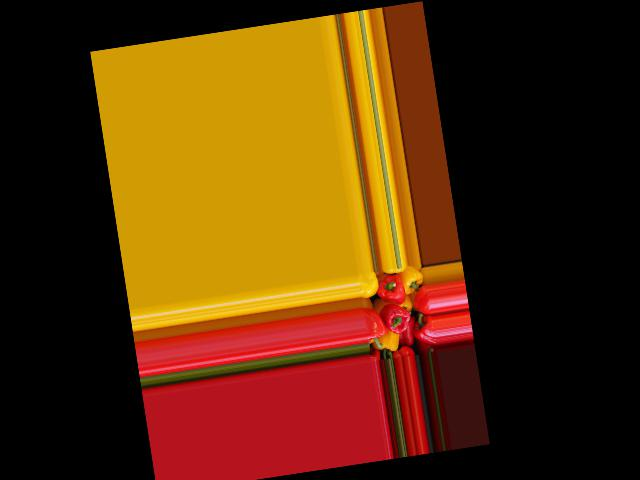bell_pepper: (397, 265, 422, 292)
